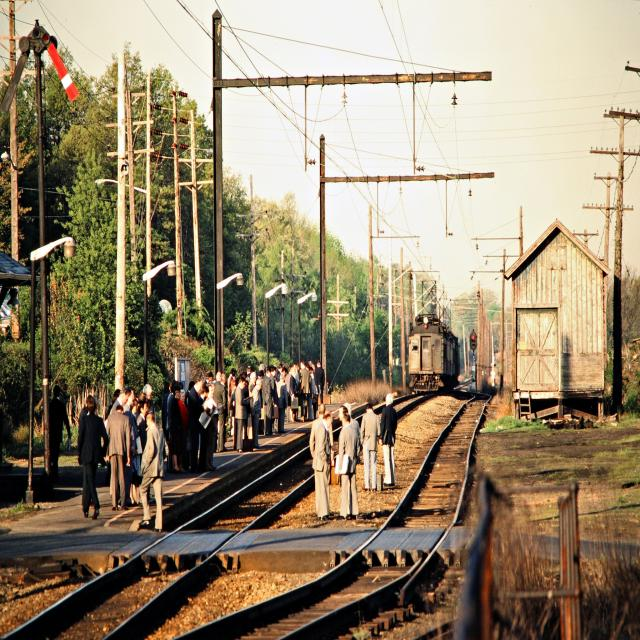body: (138, 409, 170, 533), (78, 395, 110, 519), (312, 409, 342, 523), (334, 412, 360, 522), (105, 404, 131, 512), (187, 376, 209, 477), (49, 384, 72, 480), (359, 402, 382, 493), (379, 392, 399, 487), (124, 389, 139, 505), (234, 375, 253, 453), (170, 384, 186, 476), (308, 403, 334, 459), (211, 370, 228, 453), (203, 384, 218, 473), (161, 382, 175, 462), (250, 377, 264, 451), (261, 367, 274, 438), (229, 376, 241, 450), (274, 372, 288, 434), (342, 402, 362, 445), (219, 373, 229, 452), (136, 401, 148, 465), (298, 360, 310, 423), (178, 388, 189, 454), (142, 382, 158, 424), (213, 381, 221, 454), (270, 366, 278, 436), (111, 386, 131, 414), (289, 367, 299, 422), (314, 360, 326, 405), (280, 358, 316, 372), (78, 394, 94, 424), (162, 383, 170, 438), (284, 365, 294, 407), (246, 364, 253, 414), (184, 381, 196, 409), (256, 368, 264, 408), (228, 368, 238, 398), (248, 371, 258, 397), (198, 385, 210, 404), (258, 363, 277, 375), (130, 397, 139, 422), (103, 406, 112, 430), (309, 365, 318, 386), (277, 366, 288, 383), (338, 404, 348, 422), (109, 463, 113, 502), (203, 371, 214, 384), (276, 362, 284, 376), (239, 370, 248, 382), (135, 392, 144, 402), (168, 381, 174, 395), (113, 388, 120, 399), (178, 380, 183, 390)
